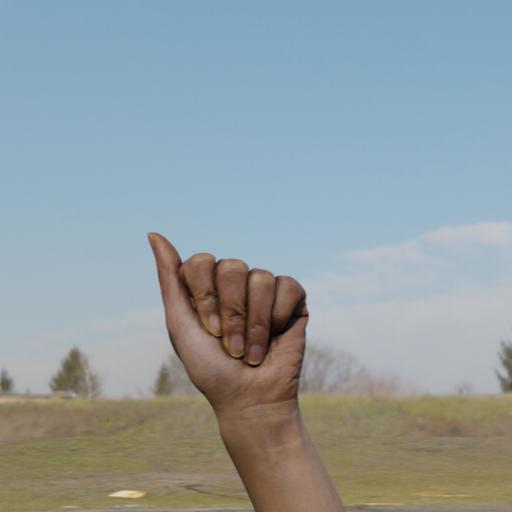A: (131, 216, 355, 442)
